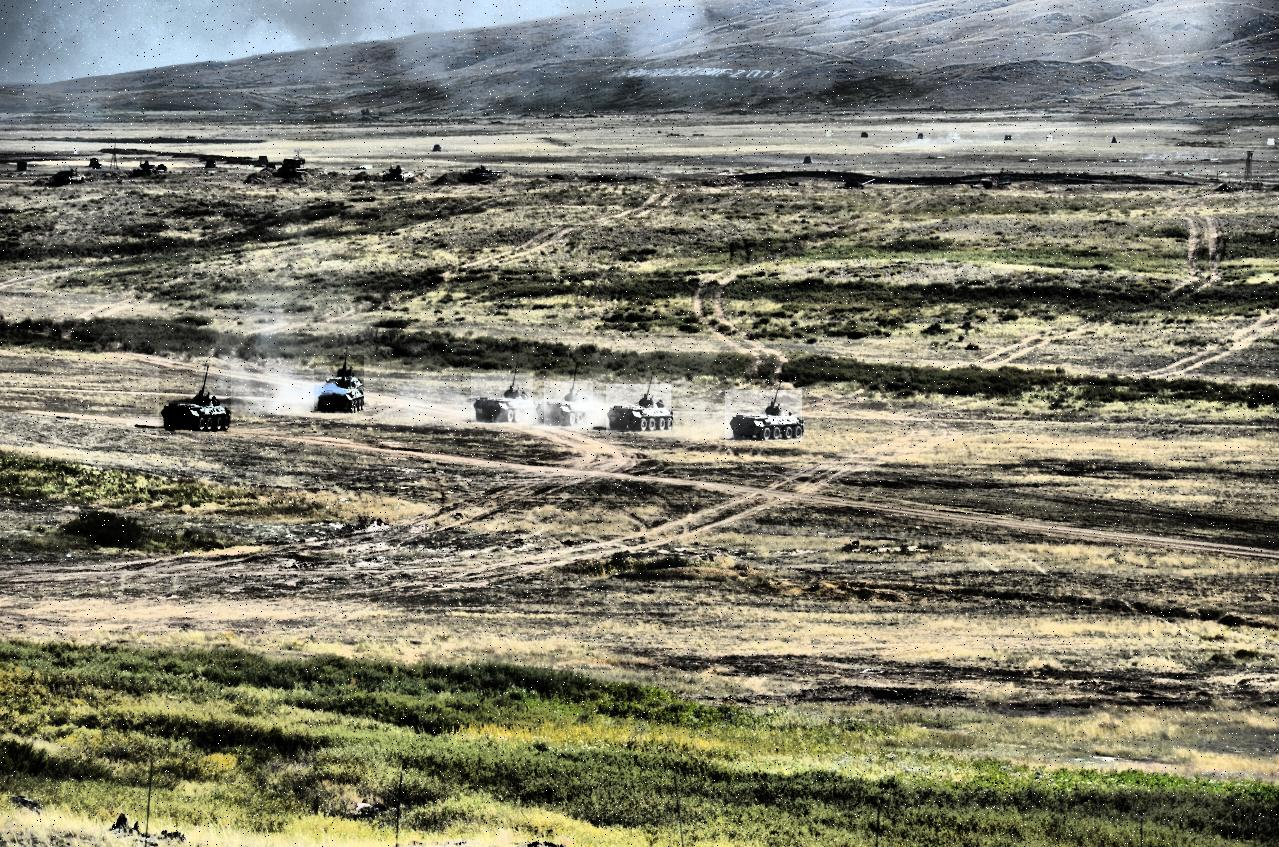military-vehicle: (159, 363, 231, 434), (726, 390, 803, 441), (471, 373, 533, 424), (606, 384, 671, 431), (314, 356, 364, 413), (544, 381, 593, 429)
